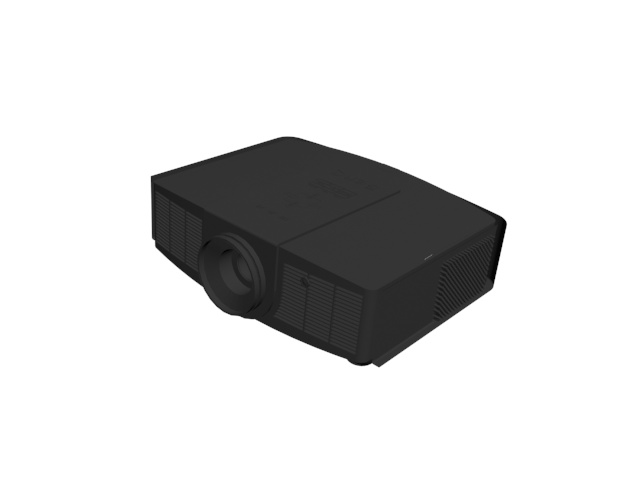projector: (145, 137, 512, 368)
